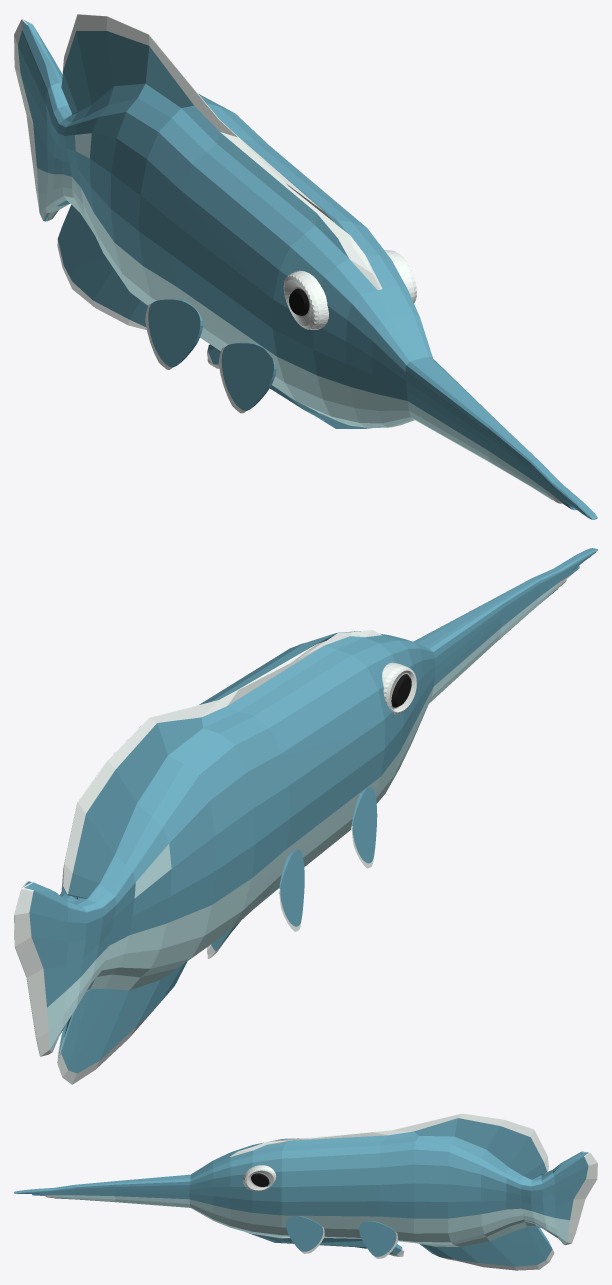
File: model_swordfish.fbx
The picture shows the model from 3 angles, top to bottom: view 1: azimuth 30°, elevation 25°; view 2: azimuth 150°, elevation 25°; view 3: azimuth 270°, elevation 25°; orthographic projection. The views are drawn at different scales.
Visible parts, largest first — view 1: swordfish.001; view 2: swordfish.001; view 3: swordfish.001.
Boxes of the visible parts, left/top/right/bottom form: swordfish.001: left=14, top=14, right=597, bottom=519; swordfish.001: left=14, top=548, right=597, bottom=1084; swordfish.001: left=14, top=1113, right=597, bottom=1270.
Bounding box in the file's own units: 27.79 × 60.37 × 203.
